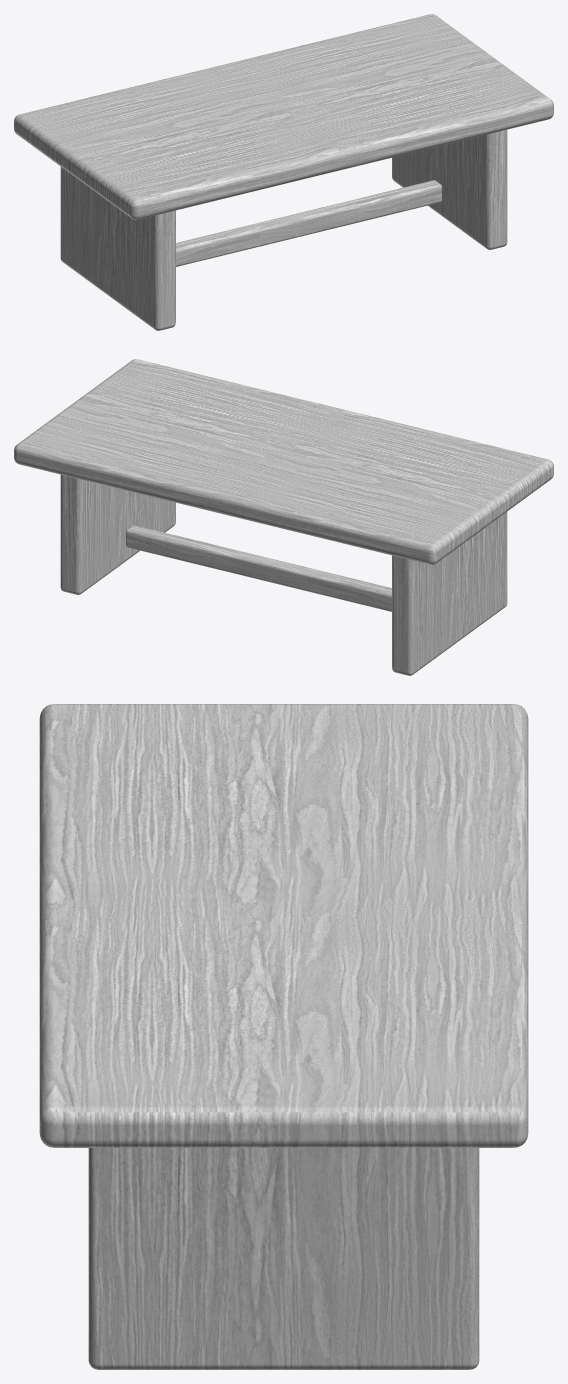
Rendered from coffee-table-1.2m.gltf.
3 views of the same model, one above another, from view 1: azimuth 30°, elevation 25°; view 2: azimuth 150°, elevation 25°; view 3: azimuth 270°, elevation 25° (orthographic). The views are drawn at different scales.
Visible parts, largest first — view 1: coffee-table; view 2: coffee-table; view 3: coffee-table.
Part boxes in pixels (left/top/right/bottom): coffee-table: left=14, top=14, right=553, bottom=330; coffee-table: left=14, top=359, right=553, bottom=675; coffee-table: left=39, top=704, right=528, bottom=1369.
Size of the model in its own units: 1.2 by 0.4 by 0.6.
1 material, 1 textured.
